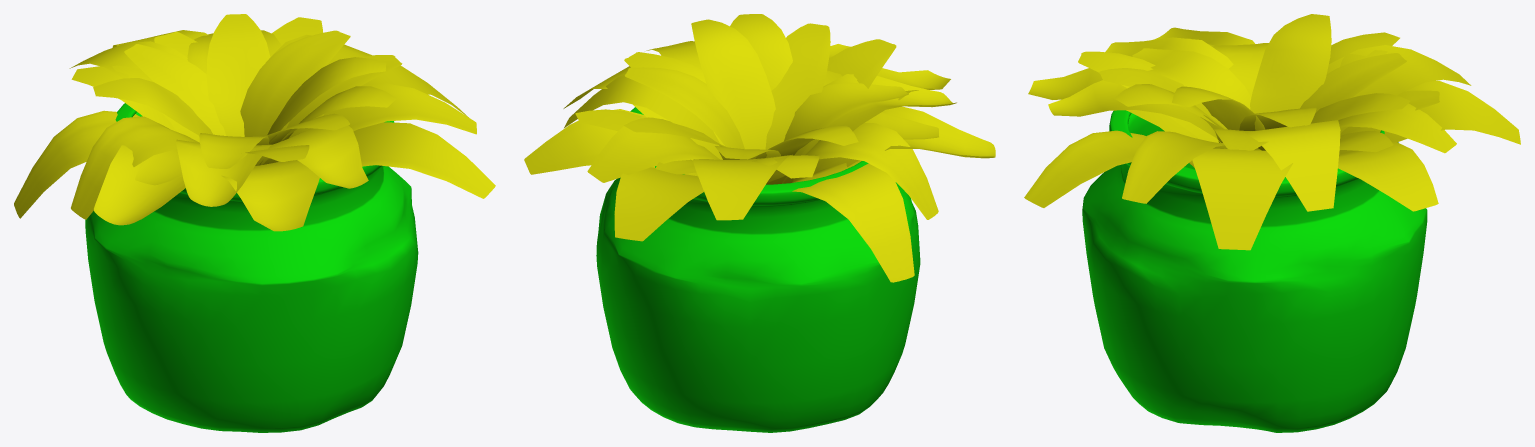
File: Flower_Pot.fbx
3 renders of one model, left to right at view 1: azimuth 30°, elevation 25°; view 2: azimuth 150°, elevation 25°; view 3: azimuth 270°, elevation 25°, orthographic. The views are drawn at different scales.
Parts seen in each view (by area): view 1: Flower_Pot; view 2: Flower_Pot; view 3: Flower_Pot.
Boxes of the visible parts, x1,y1,x2,y2 form: Flower_Pot: (14,14,495,432); Flower_Pot: (524,14,995,432); Flower_Pot: (1024,14,1520,432).
Bounding box in the file's own units: 130 × 99.97 × 137.
